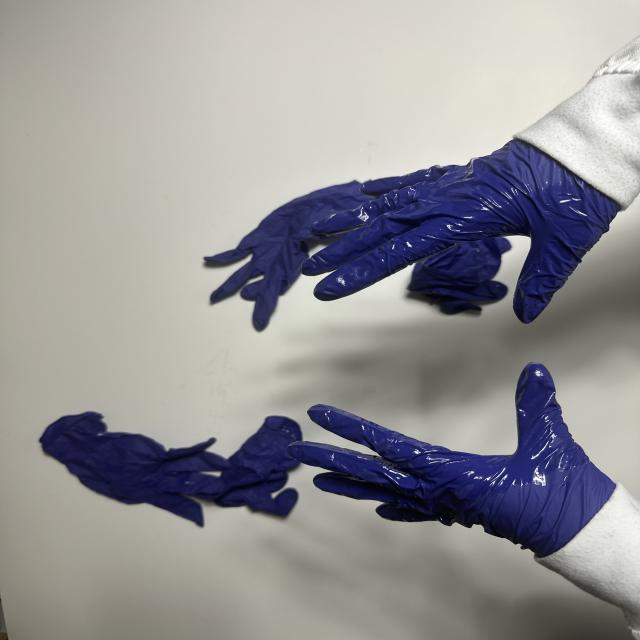gloves_contaminated: (292, 364, 613, 556), (302, 141, 620, 323)
